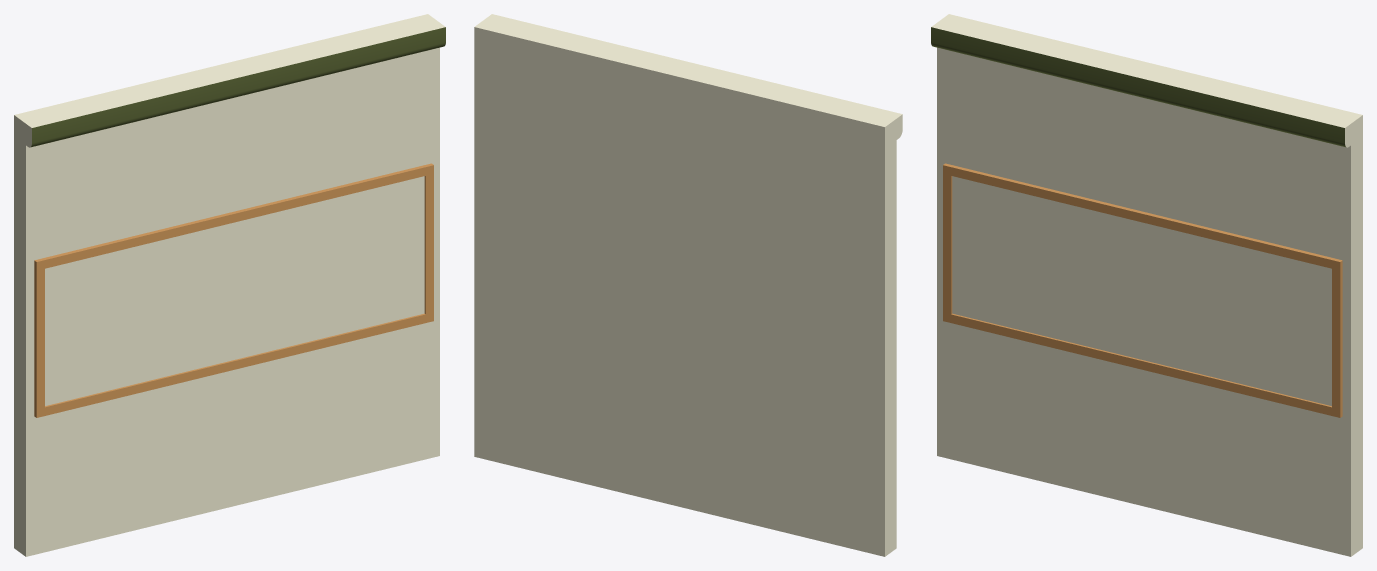
File: Modular_02_board.fbx
3 views of the same model, side by side, from view 1: azimuth 30°, elevation 25°; view 2: azimuth 150°, elevation 25°; view 3: azimuth 330°, elevation 25° (orthographic).
Parts seen in each view (by area): view 1: Modular_02_board; view 2: Modular_02_board; view 3: Modular_02_board.
Part boxes in pixels (left/top/right/bottom): Modular_02_board: left=14, top=14, right=445, bottom=556; Modular_02_board: left=474, top=14, right=902, bottom=556; Modular_02_board: left=931, top=14, right=1362, bottom=556.
Bounding box in the file's own units: 200 × 200 × 15.
